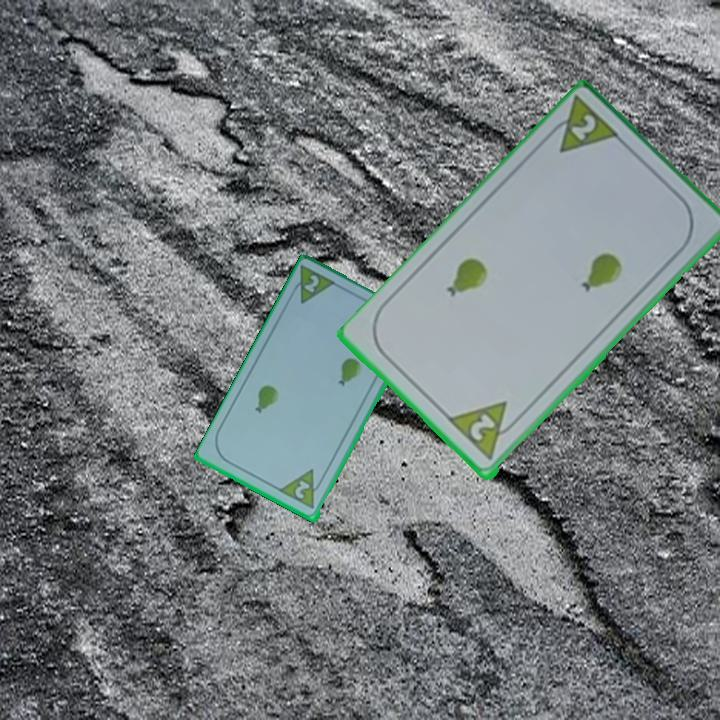2p: (541, 94, 624, 157), (286, 262, 340, 308), (466, 410, 499, 445), (291, 477, 313, 502)
